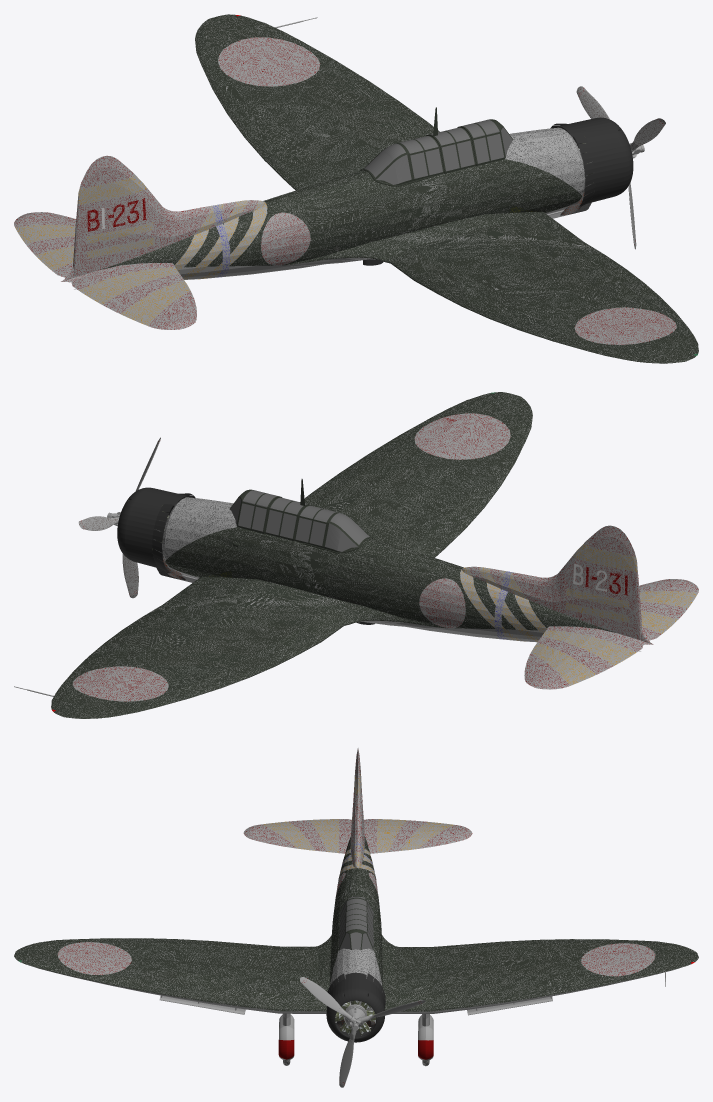
The picture shows the model from 3 angles, top to bottom: view 1: azimuth 30°, elevation 25°; view 2: azimuth 150°, elevation 25°; view 3: azimuth 270°, elevation 25°; orthographic projection. The views are drawn at different scales.
Parts seen in each view (by area): view 1: mesh247_mesh247-geometry, mesh208_mesh208-geometry, mesh246.001_mesh246-geometry, mesh244.001_mesh244-geometry, mesh191.001_mesh191-geometry, mesh48_mesh48-geometry, mesh38_mesh38-geometry, mesh45_mesh45-geometry, mesh120_mesh120-geometry, mesh329.001_mesh329-geometry; view 2: mesh208_mesh208-geometry, mesh247_mesh247-geometry, mesh191.001_mesh191-geometry, mesh206.001_mesh206-geometry, mesh246.001_mesh246-geometry, mesh135_mesh135-geometry, mesh125_mesh125-geometry, mesh132_mesh132-geometry, mesh33_mesh33-geometry, mesh329.003_mesh329-geometry; view 3: mesh208_mesh208-geometry, mesh247_mesh247-geometry, mesh191.001_mesh191-geometry, mesh246.001_mesh246-geometry, mesh206.001_mesh206-geometry, mesh244.001_mesh244-geometry, mesh24_mesh24-geometry, mesh109_mesh109-geometry, mesh329.001_mesh329-geometry.
Boxes of the visible parts, bbox=[...] form: mesh247_mesh247-geometry: bbox=[61, 129, 698, 363]; mesh208_mesh208-geometry: bbox=[65, 14, 563, 278]; mesh246.001_mesh246-geometry: bbox=[61, 263, 196, 329]; mesh244.001_mesh244-geometry: bbox=[565, 120, 633, 206]; mesh191.001_mesh191-geometry: bbox=[14, 212, 76, 278]; mesh48_mesh48-geometry: bbox=[433, 129, 476, 173]; mesh38_mesh38-geometry: bbox=[402, 137, 444, 181]; mesh45_mesh45-geometry: bbox=[464, 121, 504, 166]; mesh120_mesh120-geometry: bbox=[369, 145, 412, 185]; mesh329.001_mesh329-geometry: bbox=[630, 118, 665, 153]; mesh208_mesh208-geometry: bbox=[51, 499, 652, 718]; mesh247_mesh247-geometry: bbox=[182, 392, 641, 651]; mesh191.001_mesh191-geometry: bbox=[524, 626, 652, 689]; mesh206.001_mesh206-geometry: bbox=[117, 490, 181, 571]; mesh246.001_mesh246-geometry: bbox=[639, 579, 698, 641]; mesh135_mesh135-geometry: bbox=[264, 499, 305, 541]; mesh125_mesh125-geometry: bbox=[294, 507, 333, 547]; mesh132_mesh132-geometry: bbox=[237, 491, 275, 533]; mesh33_mesh33-geometry: bbox=[323, 514, 364, 552]; mesh329.003_mesh329-geometry: bbox=[122, 553, 138, 598]; mesh208_mesh208-geometry: bbox=[356, 748, 698, 1013]; mesh247_mesh247-geometry: bbox=[14, 748, 357, 1013]; mesh191.001_mesh191-geometry: bbox=[364, 819, 472, 853]; mesh246.001_mesh246-geometry: bbox=[243, 819, 351, 853]; mesh206.001_mesh206-geometry: bbox=[355, 972, 384, 1042]; mesh244.001_mesh244-geometry: bbox=[326, 972, 355, 1042]; mesh24_mesh24-geometry: bbox=[278, 1015, 294, 1060]; mesh109_mesh109-geometry: bbox=[418, 1015, 433, 1060]; mesh329.001_mesh329-geometry: bbox=[300, 977, 354, 1022].
Bounding box in the file's own units: 0.5653 × 0.2233 × 0.7941.
